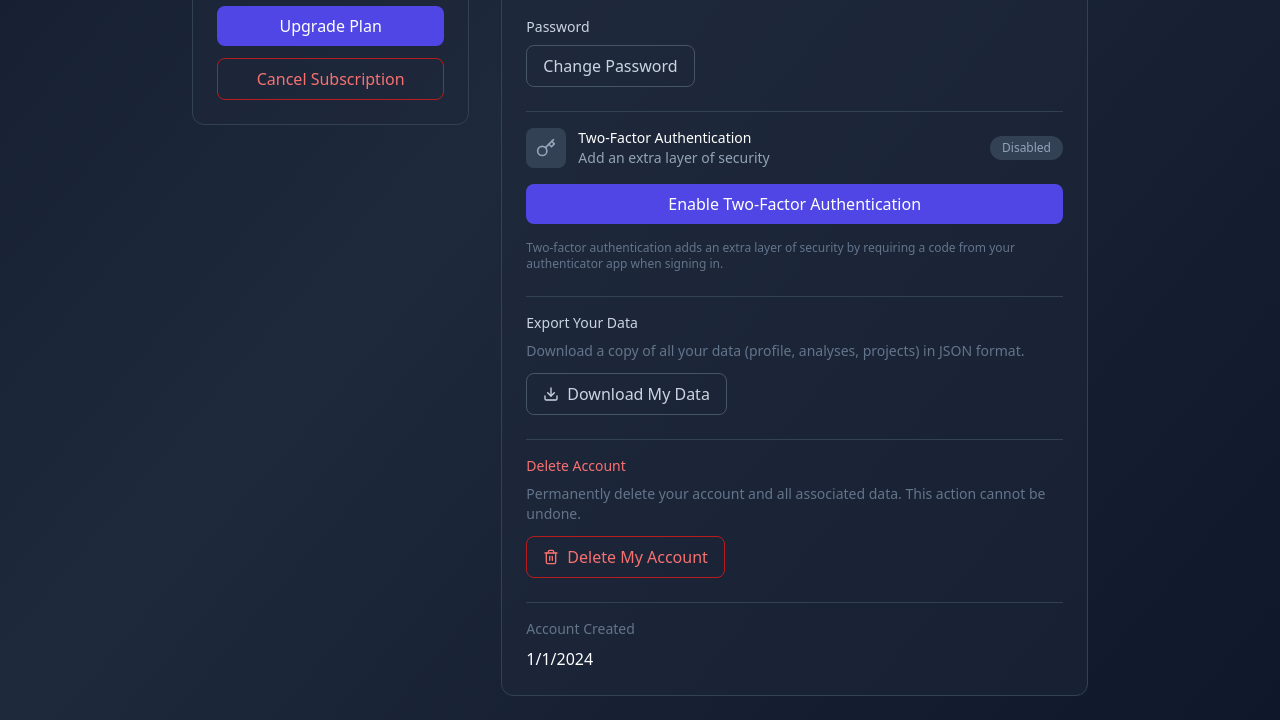
Test case: AccountPage GDPR Features › Account Deletion Feature › should open delete confirmation modal when button is clicked
The width and height of the screenshot is (1280, 720).
(page scrolled)
Click the button "Delete My Account": (626, 557) x1=526 y1=536 x2=725 y2=578
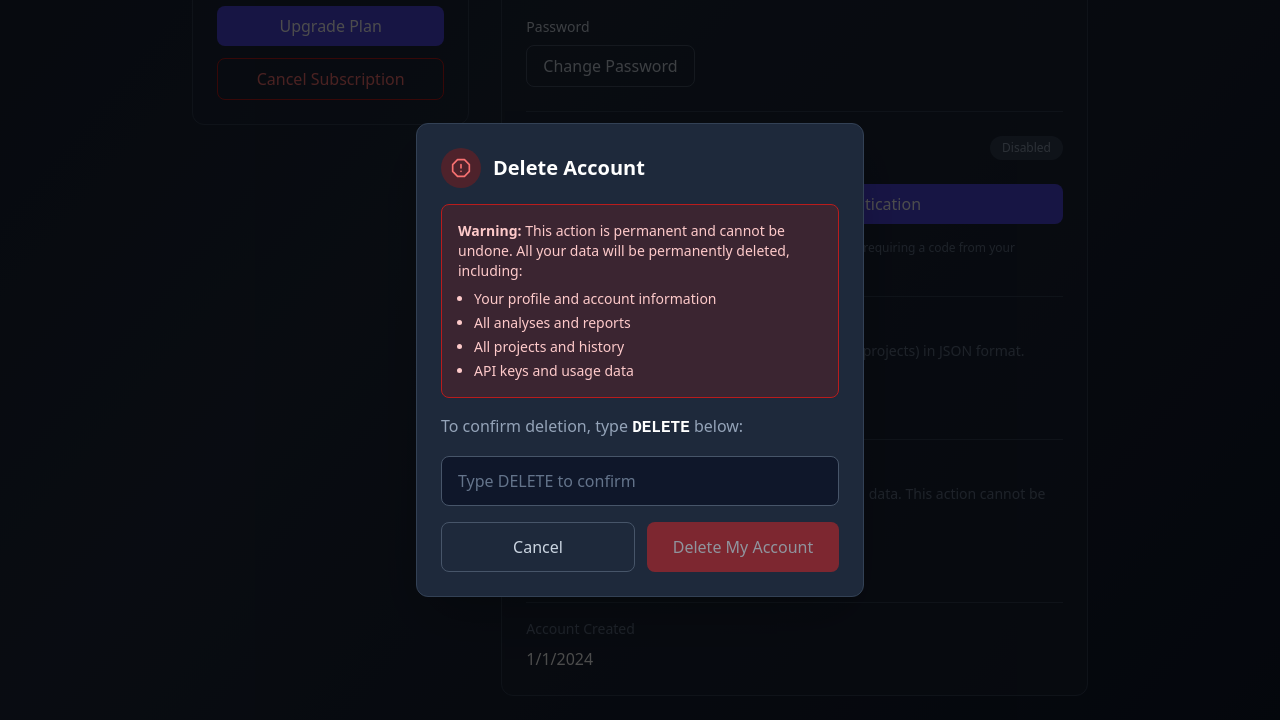
Expected: the text "This action is permanent and cannot be undone" is shown, x1=458 y1=221 x2=790 y2=280
Expected: the field with placeholder "Type DELETE to confirm" is shown, x1=441 y1=456 x2=839 y2=506
